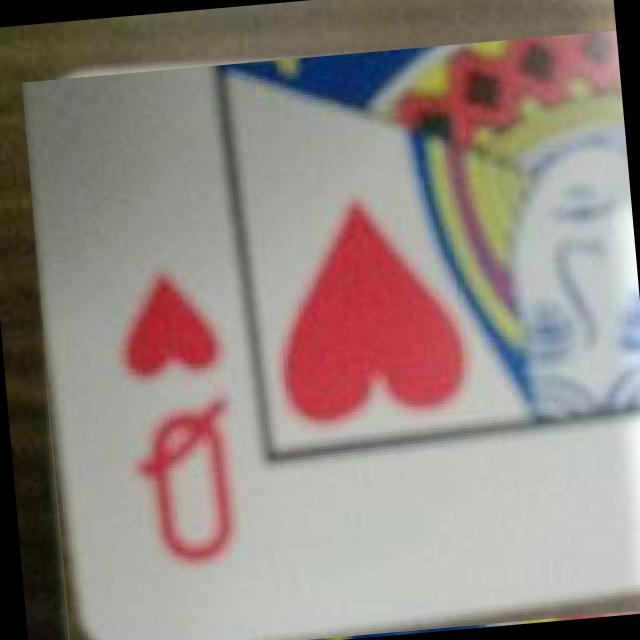Queen of hearts: (20, 31, 640, 640)
